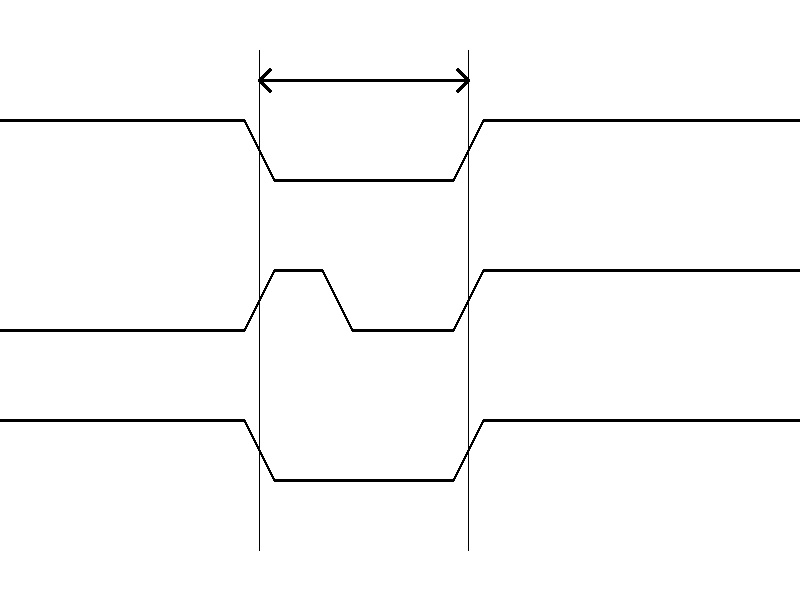double_arrow: (259, 65, 468, 95)
